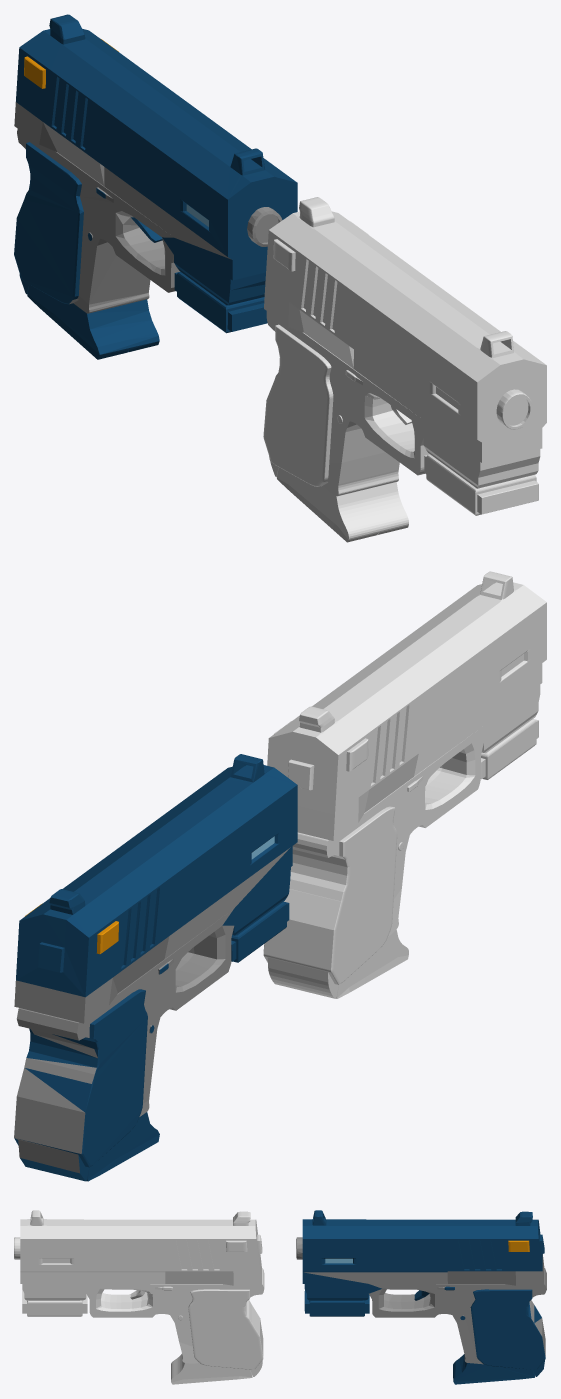
The model's file is Official Gun Blender.fbx.
3 views of the same model, one above another, from view 1: azimuth 30°, elevation 25°; view 2: azimuth 150°, elevation 25°; view 3: azimuth 270°, elevation 25° (orthographic). The views are drawn at different scales.
Visible parts, largest first — view 1: HighPoly, LowPoly; view 2: LowPoly, HighPoly; view 3: HighPoly, LowPoly.
Part boxes in pixels (<box>): HighPoly: <box>263,197,546,542</box>; LowPoly: <box>14,14,297,359</box>; LowPoly: <box>14,754,297,1181</box>; HighPoly: <box>263,571,546,998</box>; HighPoly: <box>14,1210,264,1384</box>; LowPoly: <box>296,1210,546,1384</box>.
Bounding box in the file's own units: 224 × 790 × 2341.
